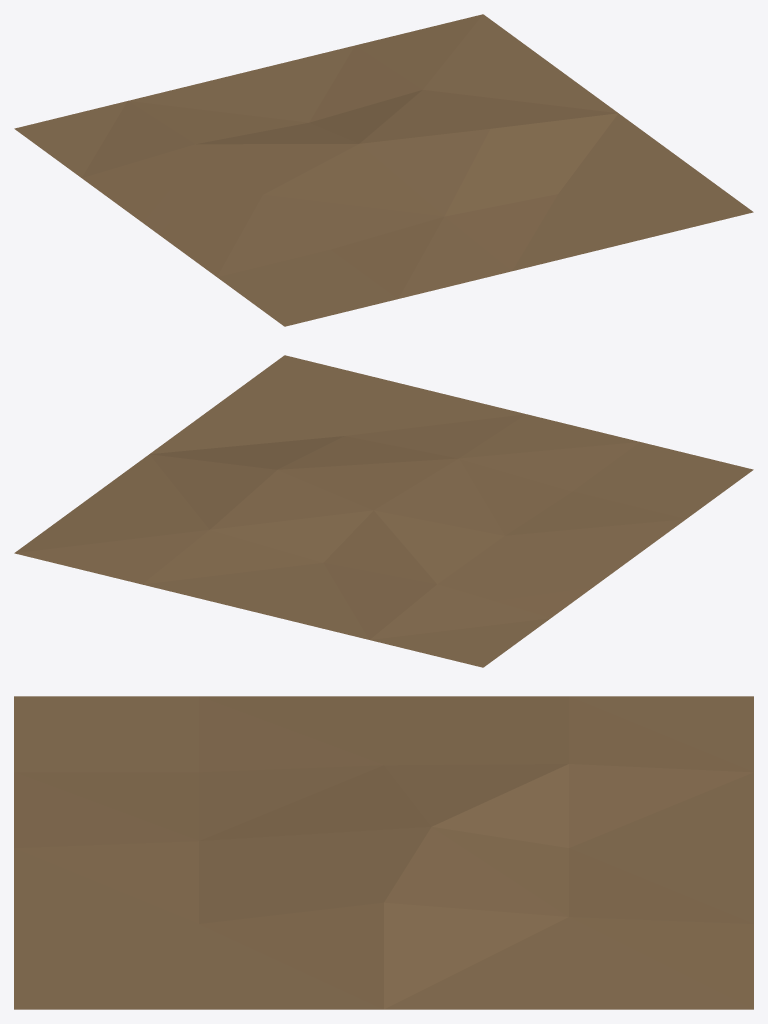
The model's file is SM_Env_Path_Dirt_02.glb.
3 renders of one model, top to bottom at view 1: azimuth 30°, elevation 25°; view 2: azimuth 150°, elevation 25°; view 3: azimuth 270°, elevation 25°, orthographic. The views are drawn at different scales.
Visible parts, largest first — view 1: SM_Env_Path_Dirt_02; view 2: SM_Env_Path_Dirt_02; view 3: SM_Env_Path_Dirt_02.
Part boxes in pixels (left/top/right/bottom): SM_Env_Path_Dirt_02: left=14, top=14, right=753, bottom=326; SM_Env_Path_Dirt_02: left=14, top=355, right=753, bottom=667; SM_Env_Path_Dirt_02: left=14, top=696, right=753, bottom=1009.
Bounding box in the file's own units: 3 × 0.0957 × 3.
1 material, 1 textured.
